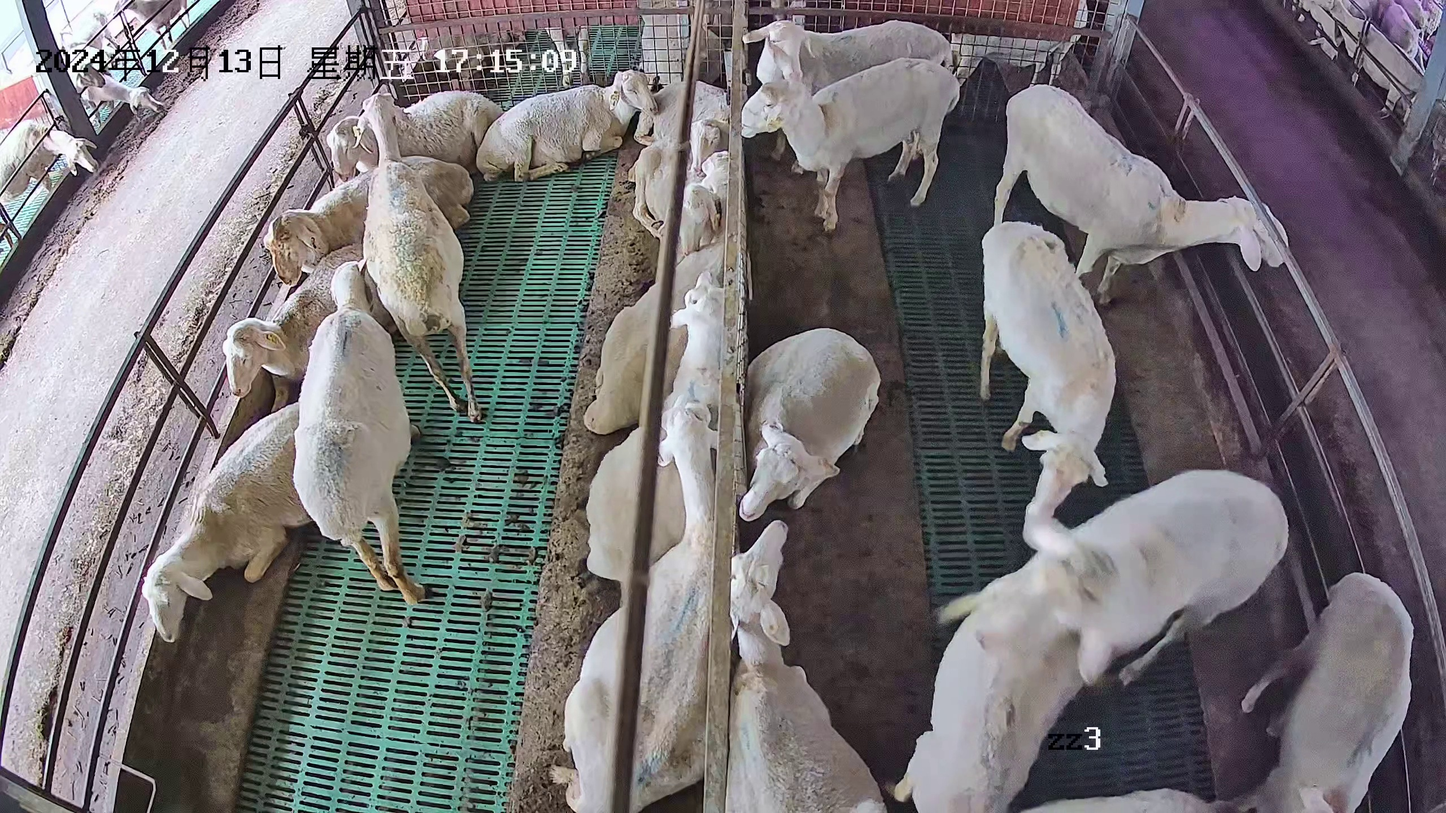Smounting: (879, 467, 1291, 813)
mounted: (883, 610, 1091, 813)
